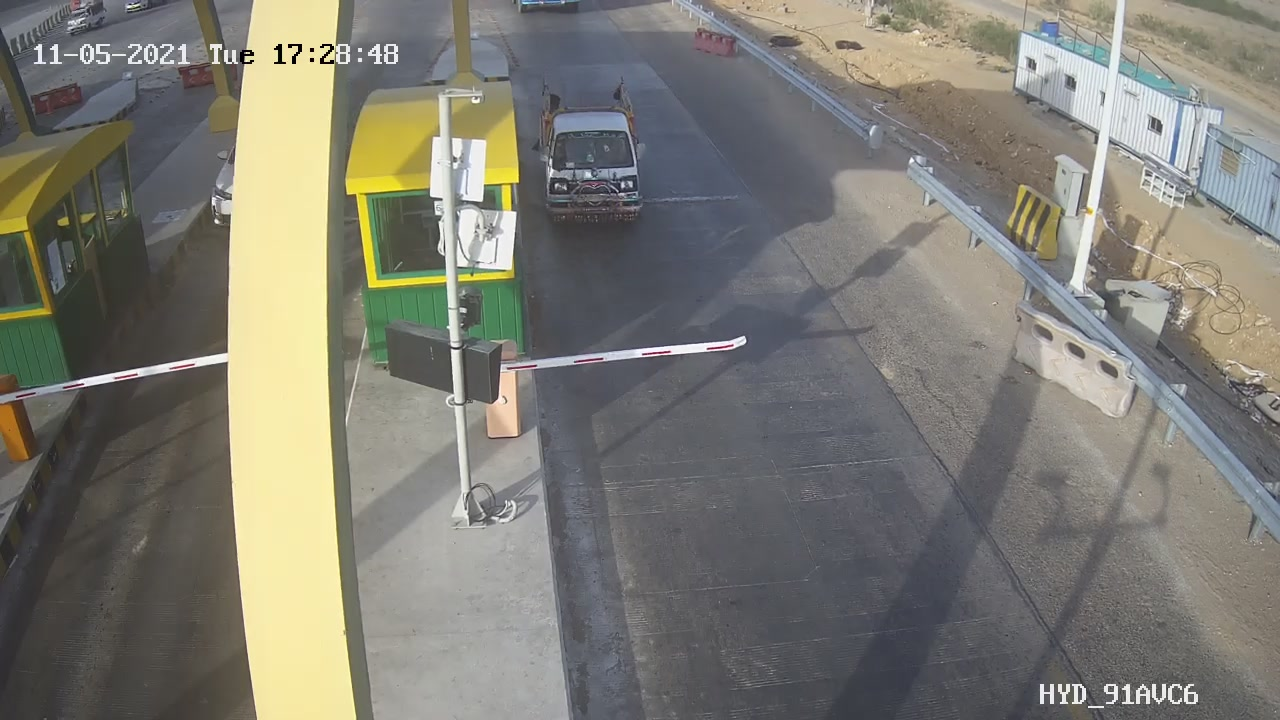F1: (525, 76, 664, 240)
